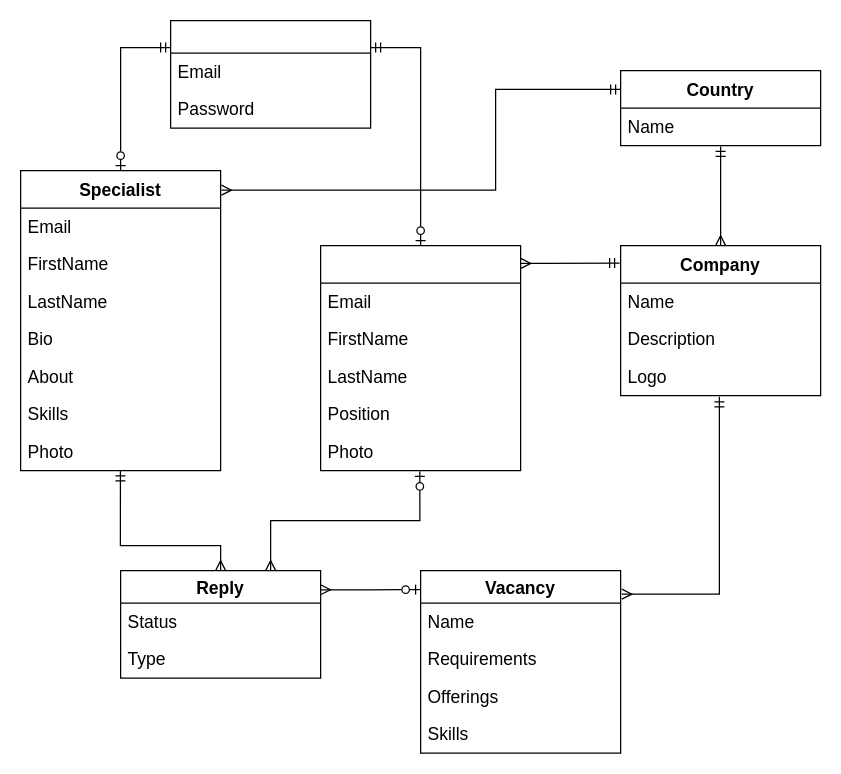
The diagram is 841 pixels wide and 774 high, and some of its shapes have lost their labels. The shapes that lost their labels are listed below. From the top down, each one's box as (x1, y1, x2, y2) in pixels, then its label:
(169, 19, 371, 128): User
(319, 244, 521, 471): Agent
